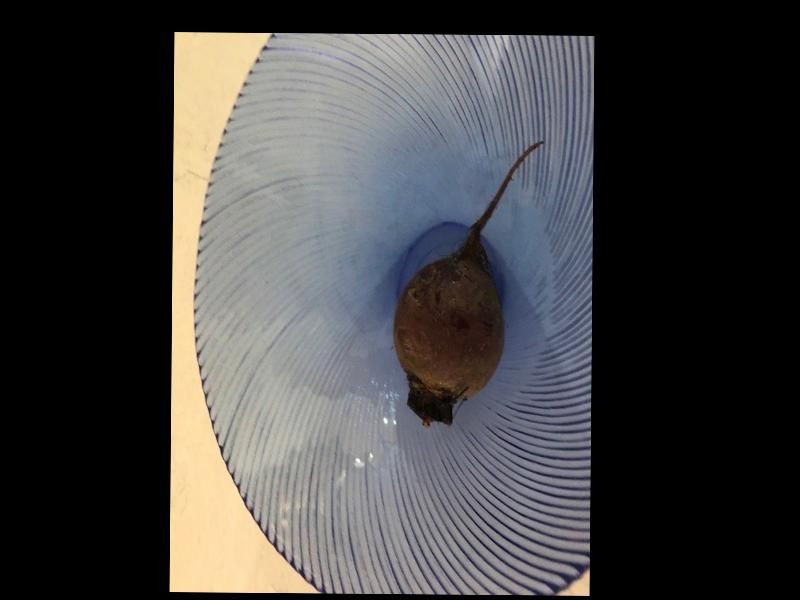Beet: (394, 140, 542, 426)
